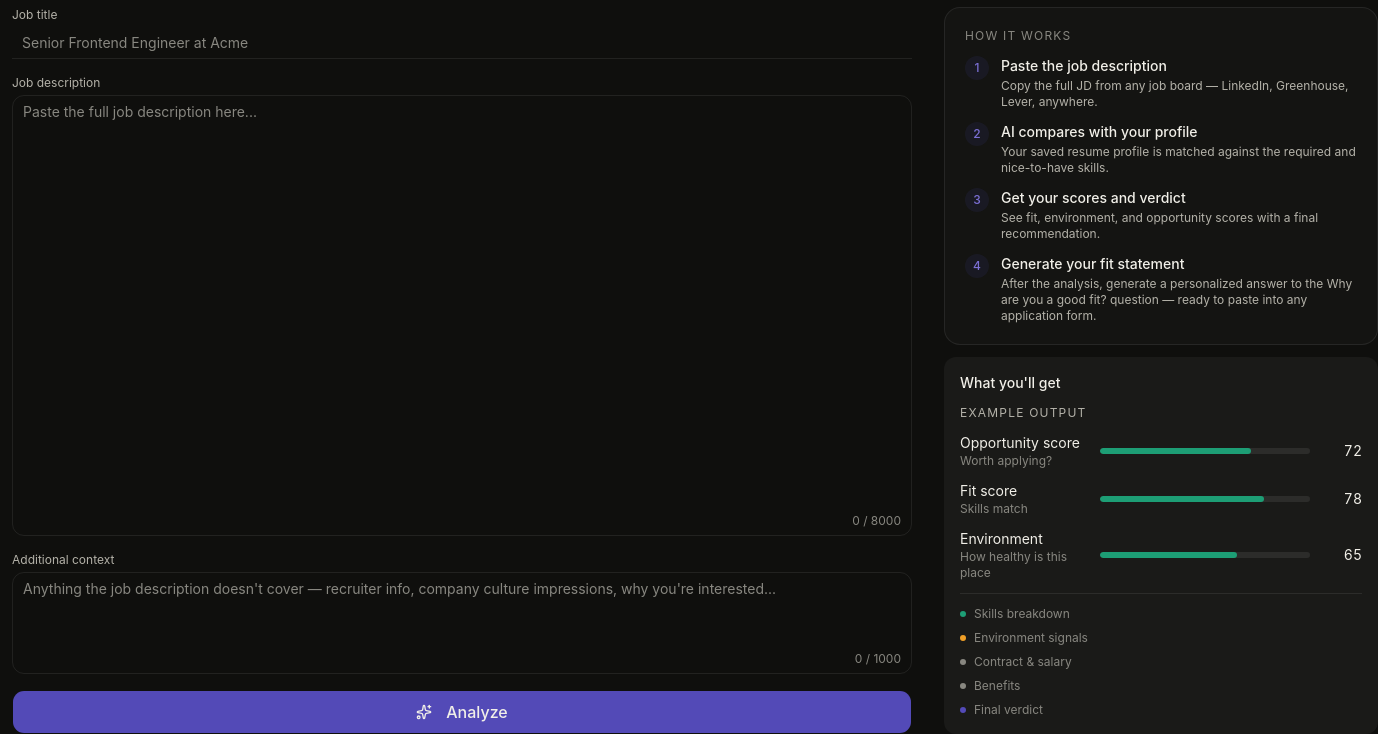
JobMatchForm › shows both 'Title is required' and 'Description is required' when submitting empty
(page scrolled)
Step 1. Click the button "Analyze" → (462, 712), box [12,690,912,733]
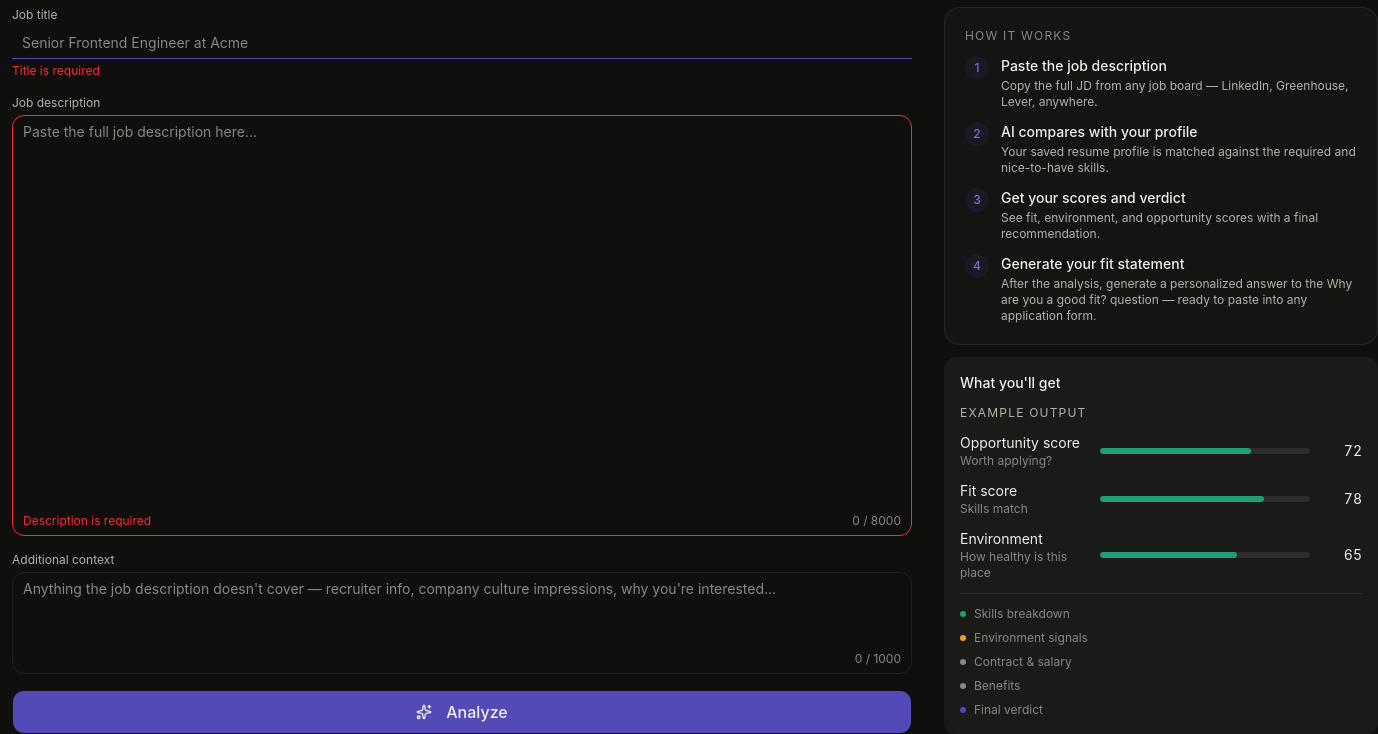
Now the text "Title is required" is shown, box [12,63,100,78]
Now the text "Description is required" is shown, box [23,513,151,529]
